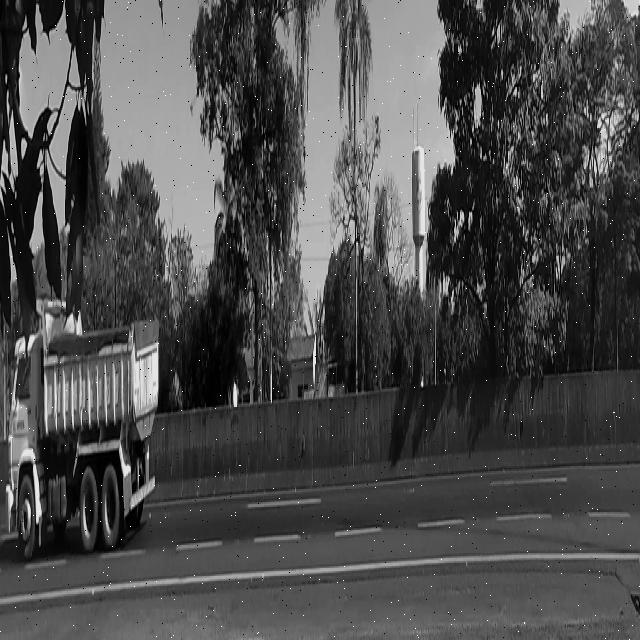-axle: (16, 462, 36, 570), (100, 457, 121, 558), (80, 464, 98, 560)
